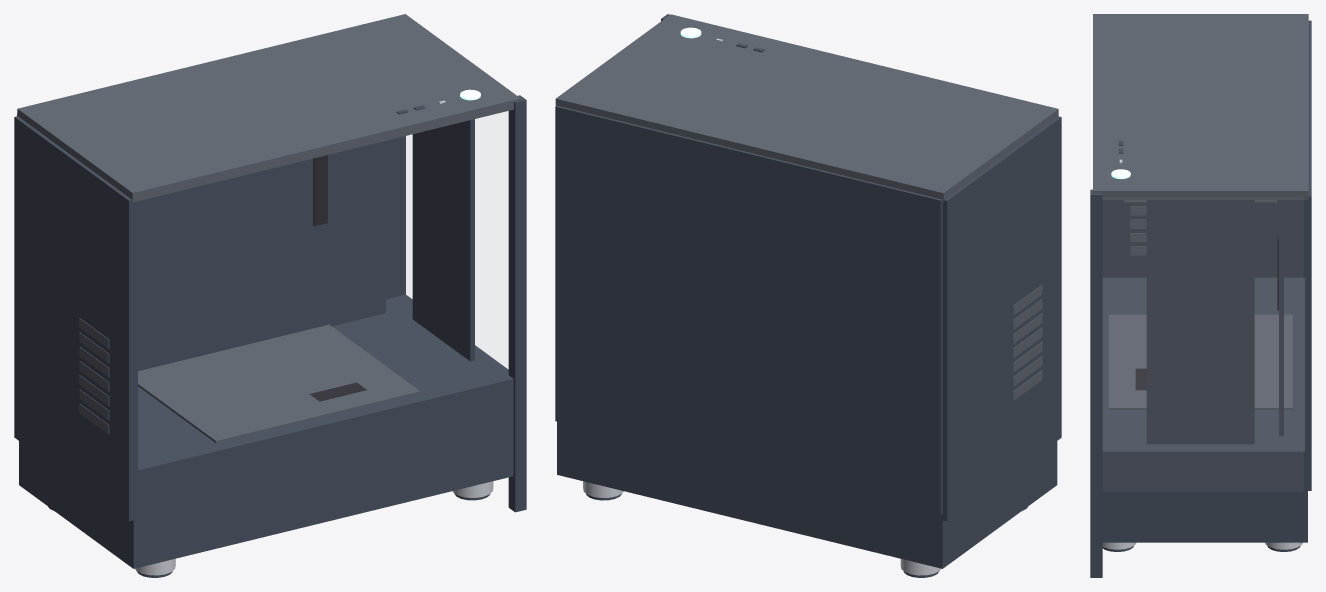
Rendered from case.glb.
The picture shows the model from 3 angles, left to right: view 1: azimuth 30°, elevation 25°; view 2: azimuth 150°, elevation 25°; view 3: azimuth 270°, elevation 25°; orthographic projection. The views are drawn at different scales.
Parts seen in each view (by area): view 1: PSU_Shroud_Chamber, Top_Mesh_Panel, Motherboard_Tray, Rear_Chassis_Wall, Shroud_Vents, Front_Fan_Bracket, Front_Pillar_Frame, Right_Side_Steel, Cable_Grommet_ATX; view 2: Right_Side_Steel, Top_Mesh_Panel, Rear_Chassis_Wall, PSU_Shroud_Chamber; view 3: Top_Mesh_Panel, PSU_Shroud_Chamber, Front_Fan_Bracket, Shroud_Vents, Rear_Chassis_Wall, Front_Pillar_Frame, Right_Side_Steel, Motherboard_Tray.
Part boxes in pixels (x1,y1,x2,y2): PSU_Shroud_Chamber: [19, 294, 513, 568]; Top_Mesh_Panel: [17, 14, 520, 202]; Motherboard_Tray: [138, 141, 385, 370]; Rear_Chassis_Wall: [14, 116, 137, 521]; Shroud_Vents: [138, 324, 420, 443]; Front_Fan_Bracket: [412, 119, 474, 361]; Front_Pillar_Frame: [508, 95, 526, 512]; Right_Side_Steel: [17, 114, 405, 299]; Cable_Grommet_ATX: [313, 155, 327, 226]; Right_Side_Steel: [555, 105, 942, 514]; Top_Mesh_Panel: [555, 14, 1058, 202]; Rear_Chassis_Wall: [938, 116, 1061, 521]; PSU_Shroud_Chamber: [557, 421, 1057, 568]; Top_Mesh_Panel: [1093, 14, 1308, 199]; PSU_Shroud_Chamber: [1102, 277, 1307, 542]; Front_Fan_Bracket: [1146, 200, 1254, 444]; Shroud_Vents: [1108, 314, 1292, 409]; Rear_Chassis_Wall: [1102, 200, 1305, 277]; Front_Pillar_Frame: [1090, 189, 1102, 577]; Right_Side_Steel: [1305, 20, 1311, 490]; Motherboard_Tray: [1279, 200, 1283, 435].
Bounding box in the file's own units: 3.5 × 3.48 × 1.81.
